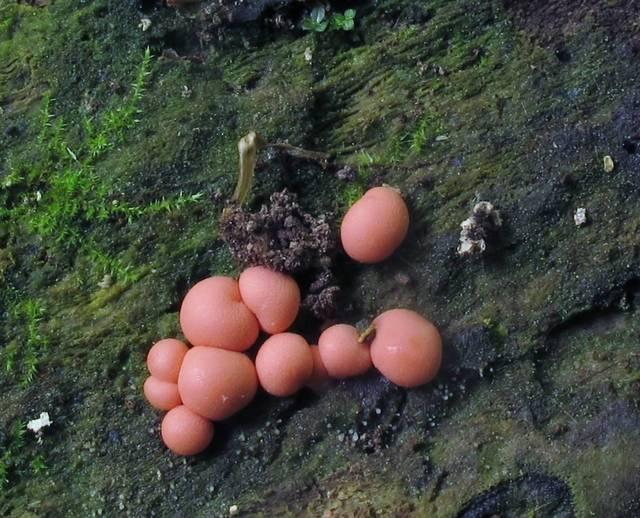Non-edible Mushroom: (142, 264, 443, 456), (355, 306, 443, 388), (338, 183, 410, 264)
